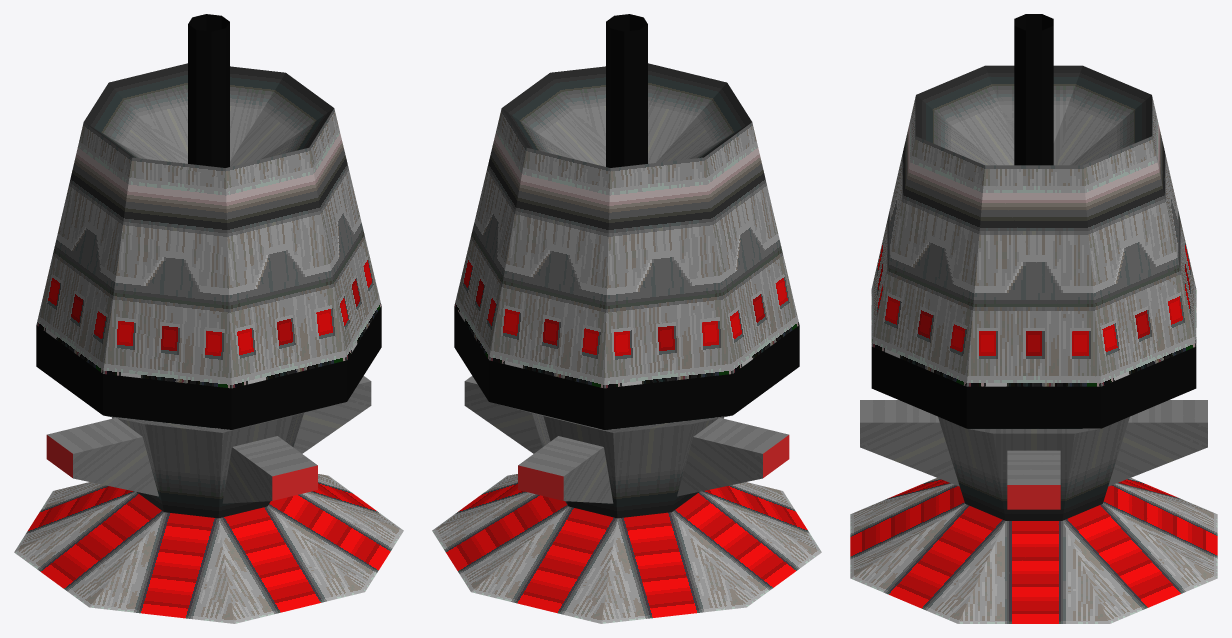
File: model_003_building_reactor.glb
3 renders of one model, left to right at view 1: azimuth 30°, elevation 25°; view 2: azimuth 150°, elevation 25°; view 3: azimuth 270°, elevation 25°, orthographic.
Visible parts, largest first — view 1: model_093; view 2: model_093; view 3: model_093.
Part boxes in pixels (box(x1,y1,x2,y2)): model_093: box(14, 14, 403, 623); model_093: box(432, 14, 821, 623); model_093: box(850, 14, 1217, 623).
Bounding box in the file's own units: 12.64 × 19.92 × 12.64.
Materials: 5 (5 with a texture image).
